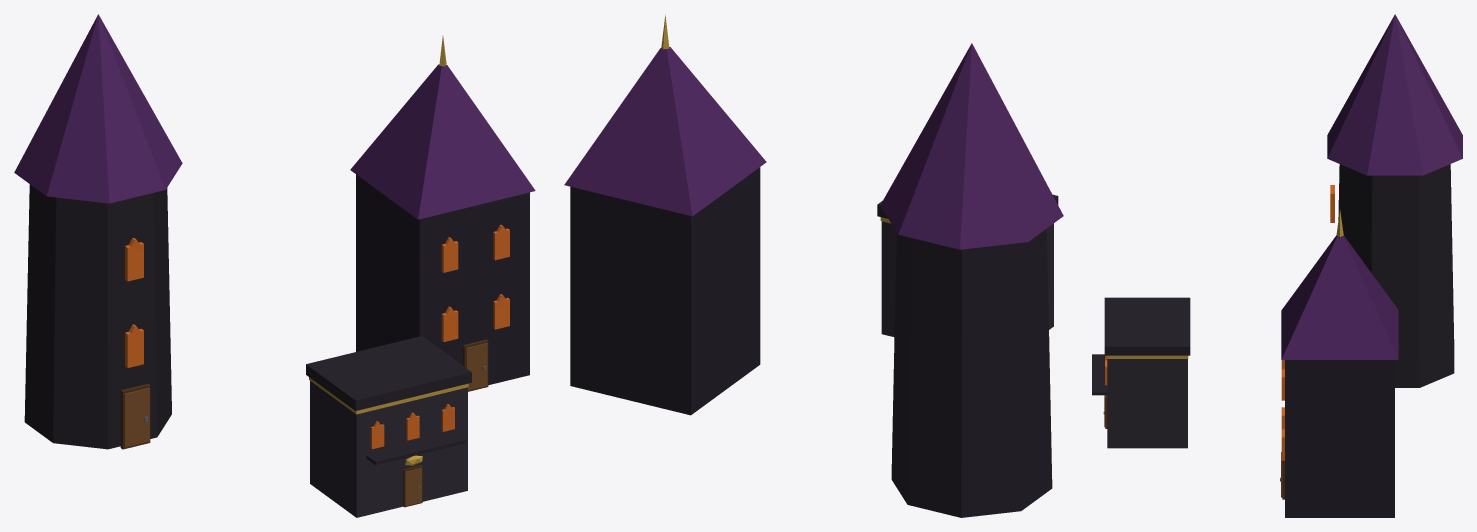
File: demon_compound_broken.glb
3 views of the same model, side by side, from view 1: azimuth 30°, elevation 25°; view 2: azimuth 150°, elevation 25°; view 3: azimuth 270°, elevation 25° (orthographic). The views are drawn at different scales.
Parts seen in each view (by area): view 1: demon_compound_piece0, demon_compound_piece13, demon_compound_piece2, demon_compound_piece4, demon_compound_piece1, demon_compound_piece5, demon_compound_piece6, demon_compound_piece11, demon_compound_piece12, demon_compound_piece10, demon_compound_piece8, demon_compound_piece9 (+2 smaller); view 2: demon_compound_piece13, demon_compound_piece8, demon_compound_piece9, demon_compound_piece6, demon_compound_piece0, demon_compound_piece2, demon_compound_piece7, demon_compound_piece3, demon_compound_piece4, demon_compound_piece1; view 3: demon_compound_piece4, demon_compound_piece5, demon_compound_piece6, demon_compound_piece2, demon_compound_piece1, demon_compound_piece0, demon_compound_piece13, demon_compound_piece8, demon_compound_piece9, demon_compound_piece10, demon_compound_piece11, demon_compound_piece3 (+1 smaller).
Part boxes in pixels (x1=…): demon_compound_piece0: x1=25, y1=178, x2=154, y2=426; demon_compound_piece13: x1=14, y1=14, x2=116, y2=255; demon_compound_piece2: x1=310, y1=223, x2=529, y2=491; demon_compound_piece4: x1=439, y1=35, x2=535, y2=329; demon_compound_piece1: x1=388, y1=64, x2=477, y2=460; demon_compound_piece5: x1=108, y1=36, x2=182, y2=334; demon_compound_piece6: x1=24, y1=243, x2=171, y2=449; demon_compound_piece11: x1=350, y1=356, x2=467, y2=495; demon_compound_piece12: x1=306, y1=357, x2=392, y2=495; demon_compound_piece10: x1=315, y1=344, x2=448, y2=517; demon_compound_piece8: x1=356, y1=225, x2=416, y2=351; demon_compound_piece9: x1=350, y1=107, x2=417, y2=228; demon_compound_piece13: x1=906, y1=43, x2=1063, y2=328; demon_compound_piece8: x1=570, y1=177, x2=756, y2=415; demon_compound_piece9: x1=564, y1=116, x2=760, y2=277; demon_compound_piece6: x1=892, y1=256, x2=1052, y2=517; demon_compound_piece0: x1=880, y1=140, x2=1051, y2=469; demon_compound_piece2: x1=724, y1=172, x2=896, y2=390; demon_compound_piece7: x1=611, y1=58, x2=766, y2=175; demon_compound_piece3: x1=637, y1=218, x2=914, y2=506; demon_compound_piece4: x1=579, y1=14, x2=671, y2=163; demon_compound_piece1: x1=660, y1=46, x2=889, y2=229; demon_compound_piece4: x1=1281, y1=209, x2=1389, y2=478; demon_compound_piece5: x1=1327, y1=36, x2=1422, y2=255; demon_compound_piece6: x1=1359, y1=208, x2=1454, y2=374; demon_compound_piece2: x1=1169, y1=310, x2=1389, y2=517; demon_compound_piece1: x1=1092, y1=235, x2=1346, y2=422; demon_compound_piece0: x1=1327, y1=108, x2=1462, y2=240; demon_compound_piece13: x1=1330, y1=14, x2=1462, y2=173; demon_compound_piece8: x1=1349, y1=396, x2=1394, y2=517; demon_compound_piece9: x1=1351, y1=265, x2=1398, y2=413; demon_compound_piece10: x1=1101, y1=311, x2=1185, y2=448; demon_compound_piece11: x1=1092, y1=297, x2=1169, y2=448; demon_compound_piece3: x1=1395, y1=356, x2=1454, y2=387.
Bounding box in the file's own units: 4.78 × 4.2 × 4.04.
